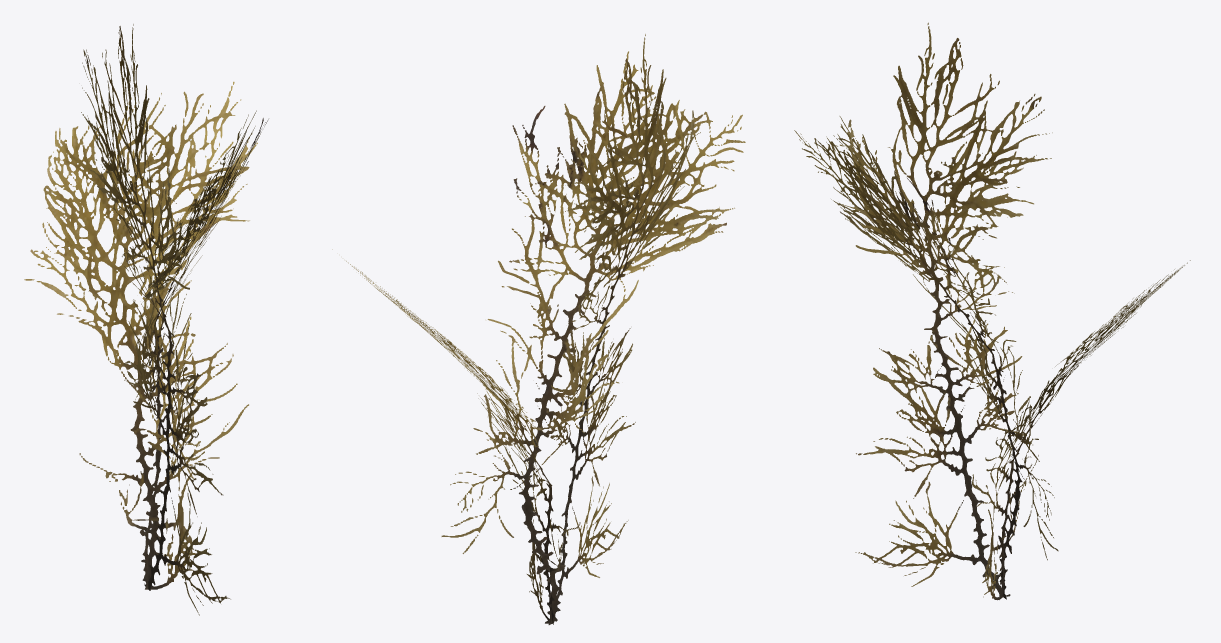
Rendered from seaweed_2_3.FBX.
3 views of the same model, side by side, from view 1: azimuth 30°, elevation 25°; view 2: azimuth 150°, elevation 25°; view 3: azimuth 270°, elevation 25° (orthographic). The views are drawn at different scales.
Visible parts, largest first — view 1: seaweed_2_03; view 2: seaweed_2_03; view 3: seaweed_2_03.
Part boxes in pixels (<box>): seaweed_2_03: <box>24,24,268,615</box>; seaweed_2_03: <box>332,34,745,624</box>; seaweed_2_03: <box>794,22,1190,600</box>.
Size of the model in its own units: 13.54 by 28.75 by 19.33.
Materials: 1 (1 with a texture image).
